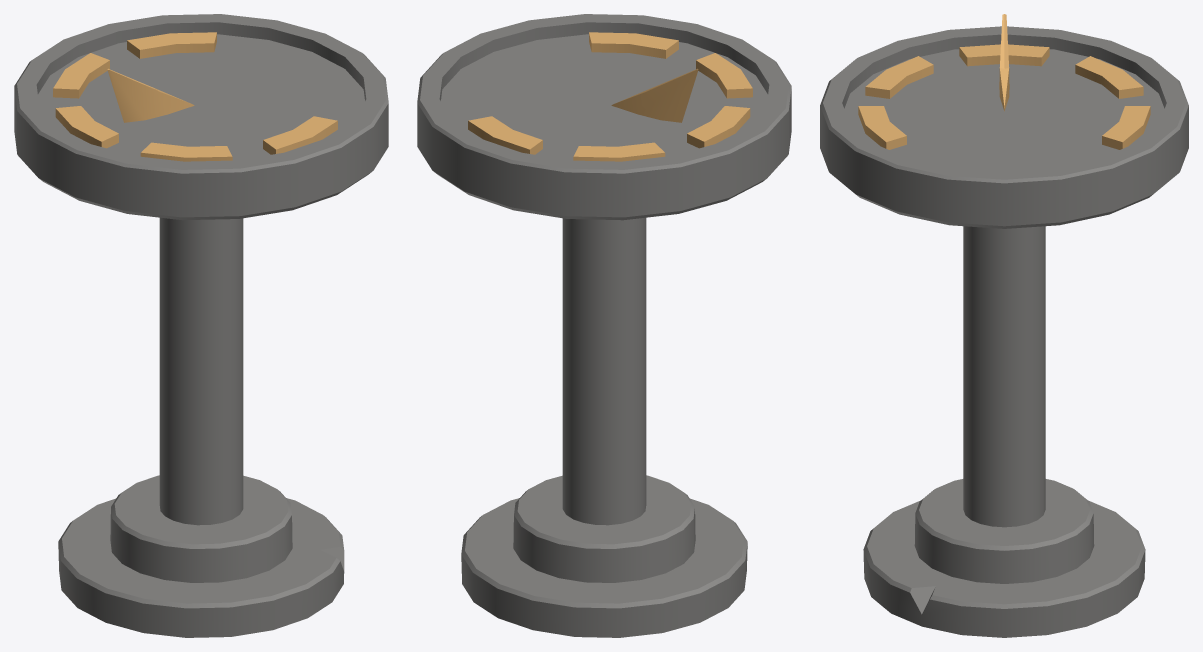
File: atoll_sundial.fbx
The picture shows the model from 3 angles, left to right: view 1: azimuth 30°, elevation 25°; view 2: azimuth 150°, elevation 25°; view 3: azimuth 270°, elevation 25°; orthographic projection. The views are drawn at different scales.
Visible parts, largest first — view 1: sundial; view 2: sundial; view 3: sundial.
Boxes of the visible parts, left/top/right/bottom form: sundial: left=14, top=14, right=388, bottom=637; sundial: left=417, top=14, right=791, bottom=637; sundial: left=820, top=14, right=1188, bottom=637.
Size of the model in its own units: 0.8198 by 1.28 by 0.8198.
